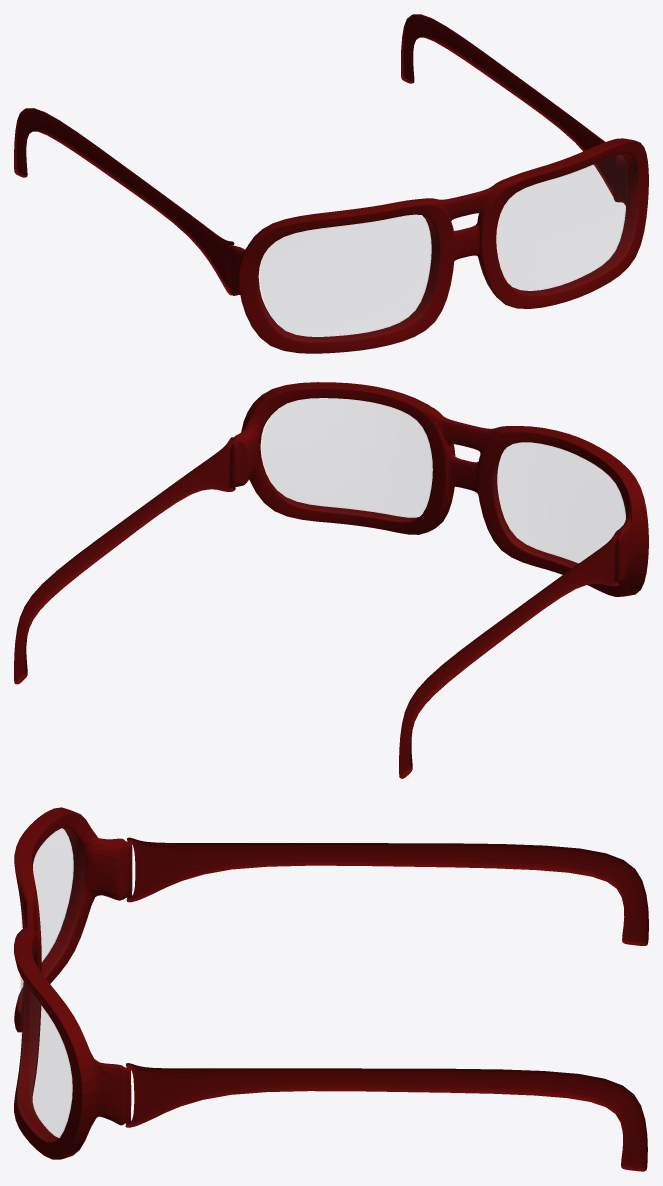
File: glass_red.obj
The picture shows the model from 3 angles, top to bottom: view 1: azimuth 30°, elevation 25°; view 2: azimuth 150°, elevation 25°; view 3: azimuth 270°, elevation 25°; orthographic projection. The views are drawn at different scales.
Parts seen in each view (by area): view 1: Right_Cube.000; view 2: Right_Cube.000; view 3: Right_Cube.000.
Boxes of the visible parts, <box> form: Right_Cube.000: <box>14,14,648,353</box>; Right_Cube.000: <box>14,382,648,778</box>; Right_Cube.000: <box>14,807,648,1171</box>.
Size of the model in its own units: 0.0577 by 0.0184 by 0.0648.
